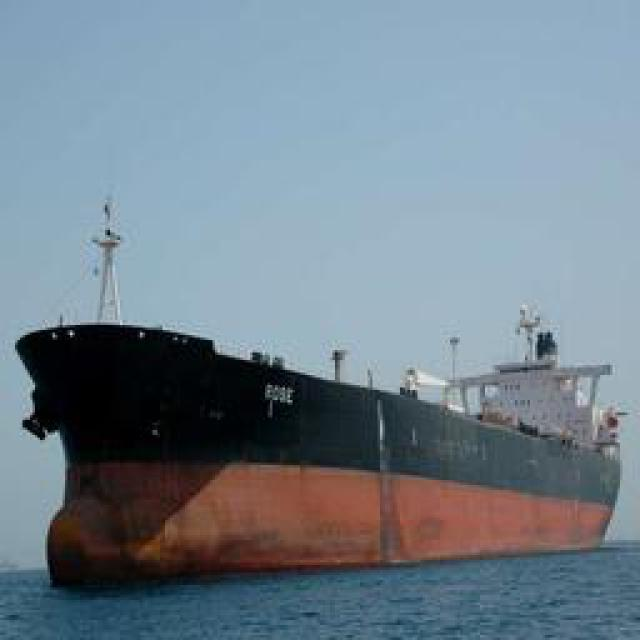Ship: (27, 301, 627, 584)
